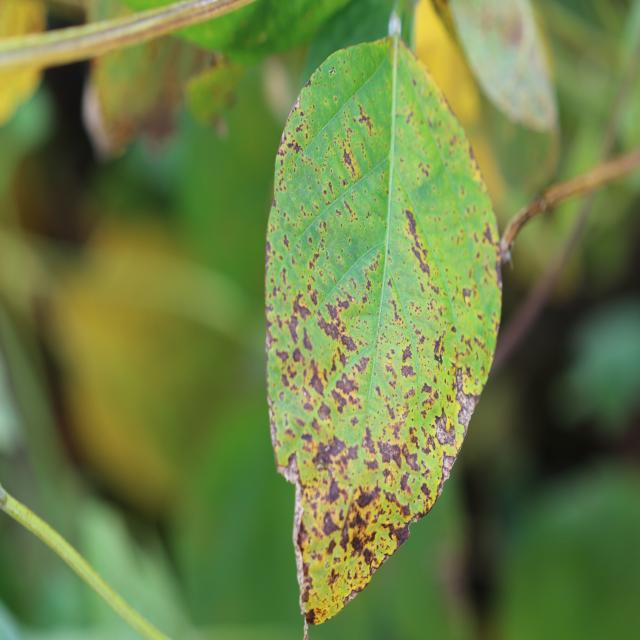Bacterial_Blight: (402, 205, 434, 277), (316, 300, 359, 351), (288, 283, 309, 350), (314, 435, 349, 471), (334, 371, 360, 402), (434, 413, 457, 448), (376, 440, 403, 469), (324, 475, 347, 507), (321, 505, 344, 536), (383, 489, 410, 514), (504, 15, 525, 47), (341, 146, 360, 178), (403, 208, 421, 241), (356, 102, 375, 130), (356, 484, 378, 508), (308, 243, 325, 273), (308, 368, 325, 395), (392, 523, 411, 547), (402, 449, 420, 474), (440, 452, 457, 478), (389, 298, 404, 325), (266, 287, 277, 323), (325, 301, 341, 325), (343, 198, 359, 221), (433, 333, 445, 363), (482, 222, 496, 246), (399, 472, 414, 494), (350, 533, 365, 554), (317, 401, 332, 421), (400, 362, 415, 379), (362, 547, 375, 566), (401, 345, 413, 364), (420, 482, 432, 500), (290, 140, 303, 155), (304, 609, 316, 625), (329, 570, 340, 587), (347, 277, 358, 292), (300, 432, 313, 444), (462, 287, 472, 302), (421, 382, 433, 394), (266, 239, 273, 256), (319, 239, 326, 252), (277, 146, 285, 157), (304, 78, 312, 88), (328, 181, 334, 193), (272, 198, 277, 209)
Soybean: (265, 34, 502, 625)
